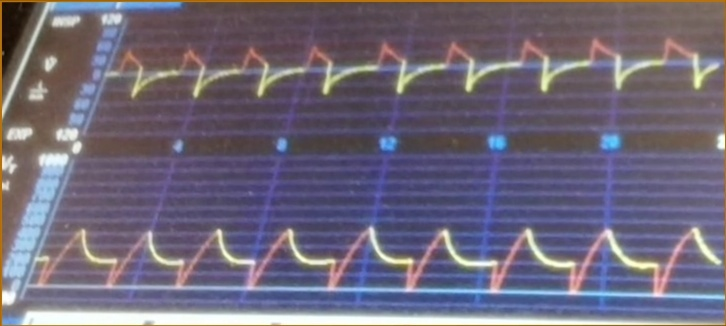Flow: (116, 28, 726, 128)
Leakage Volume: (54, 197, 726, 308)
